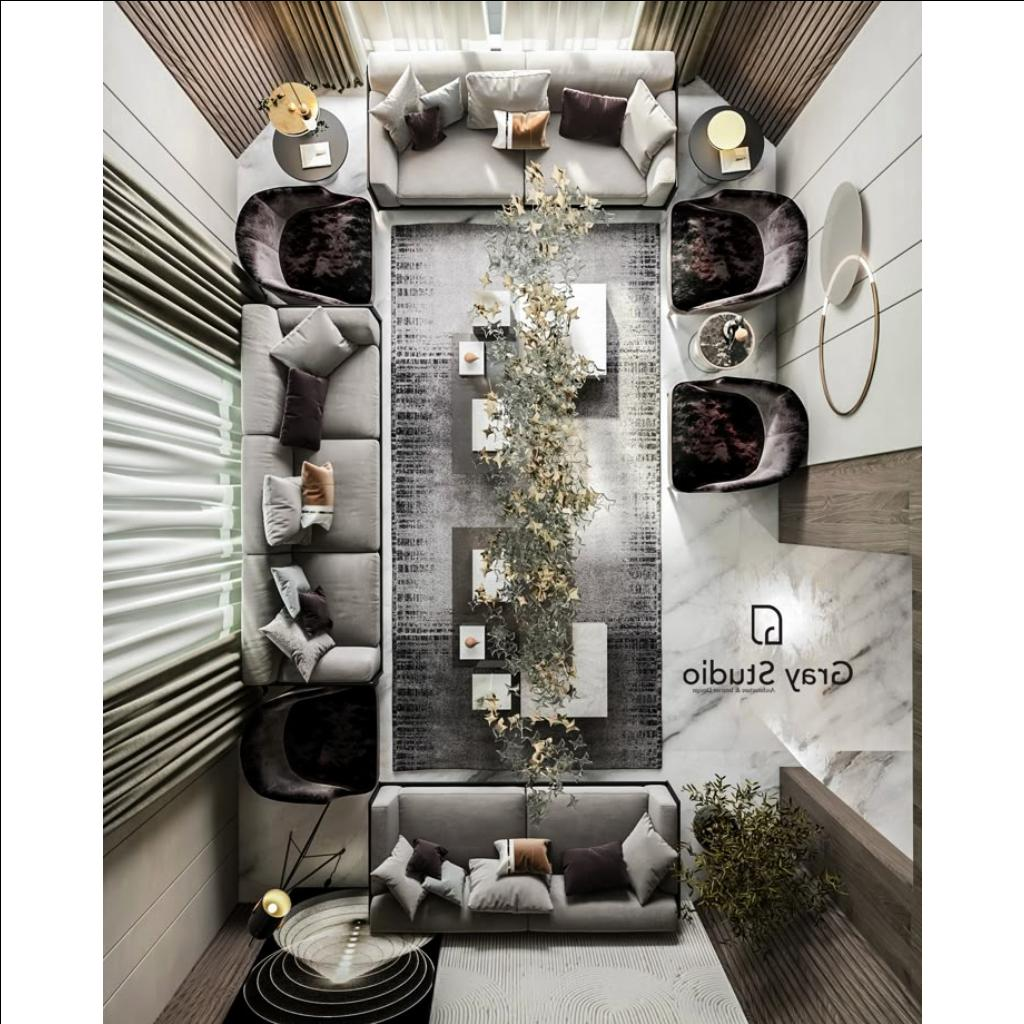chair: (672, 378, 808, 492), (674, 192, 806, 308), (238, 191, 368, 295), (241, 688, 375, 788)
coffee table: (452, 523, 524, 665), (448, 344, 522, 468), (527, 624, 607, 716), (521, 284, 605, 364)
floor lamp: (278, 822, 342, 890)
floor plant: (694, 800, 774, 878), (698, 315, 754, 367)
rug: (390, 222, 660, 766)
side table: (272, 104, 348, 180), (688, 105, 764, 179), (470, 287, 510, 329), (472, 673, 514, 709)
sofa: (240, 305, 382, 679), (374, 786, 682, 938), (372, 48, 674, 196)
window: (106, 161, 130, 835), (253, 4, 723, 30)
